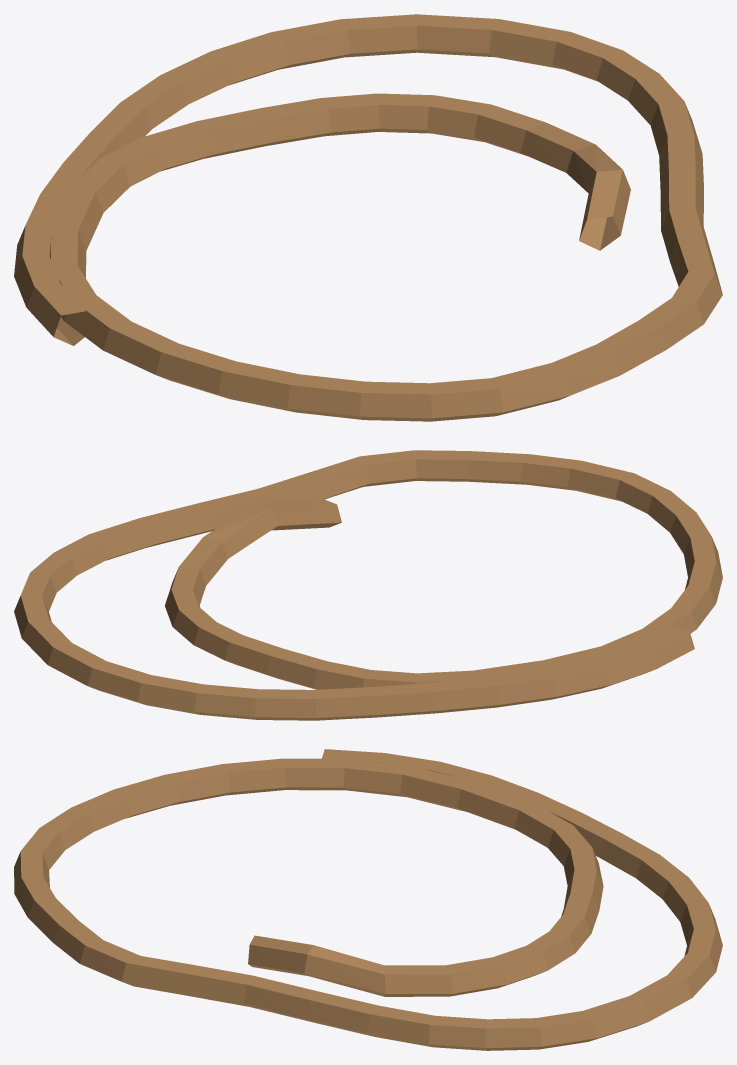
Rendered from String_004.fbx.
3 renders of one model, top to bottom at view 1: azimuth 30°, elevation 25°; view 2: azimuth 150°, elevation 25°; view 3: azimuth 270°, elevation 25°, orthographic. The views are drawn at different scales.
Parts seen in each view (by area): view 1: String_004; view 2: String_004; view 3: String_004.
Boxes of the visible parts, box(x1,y1,x2,y2) form: String_004: box(14, 14, 722, 421); String_004: box(14, 450, 722, 720); String_004: box(14, 749, 722, 1050).
Size of the model in its own units: 1.07 by 0.0754 by 1.12.
